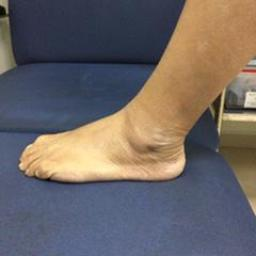Lateral View -Left Foot-: (12, 85, 208, 190)
